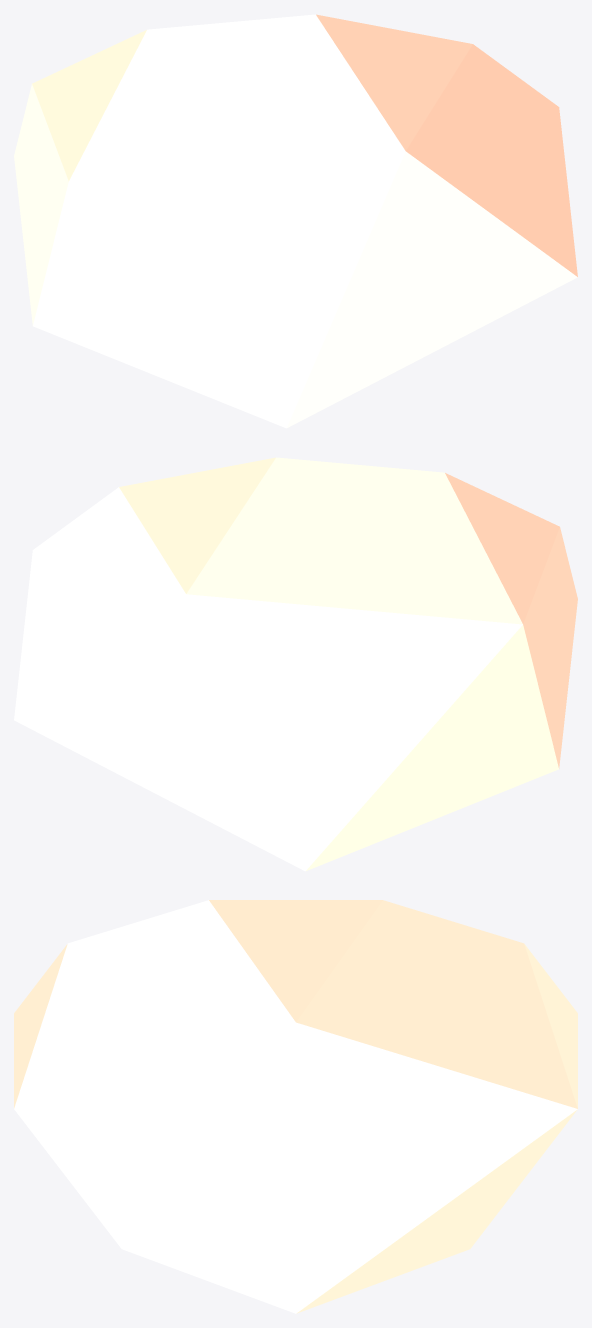
Rendered from boss_bottom.gltf.
3 views of the same model, one above another, from view 1: azimuth 30°, elevation 25°; view 2: azimuth 150°, elevation 25°; view 3: azimuth 270°, elevation 25° (orthographic).
Parts seen in each view (by area): view 1: boss_bottom; view 2: boss_bottom; view 3: boss_bottom.
Part boxes in pixels (x1,y1,x2,y2): boss_bottom: [14, 14, 577, 428]; boss_bottom: [14, 457, 577, 871]; boss_bottom: [14, 900, 577, 1313].
Bounding box in the file's own units: 1.96 × 1.15 × 1.96.
